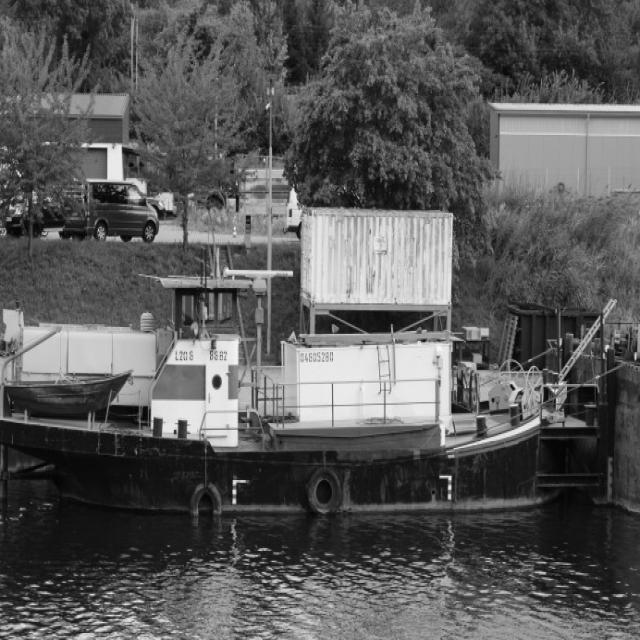tugboat: (1, 261, 566, 537)
